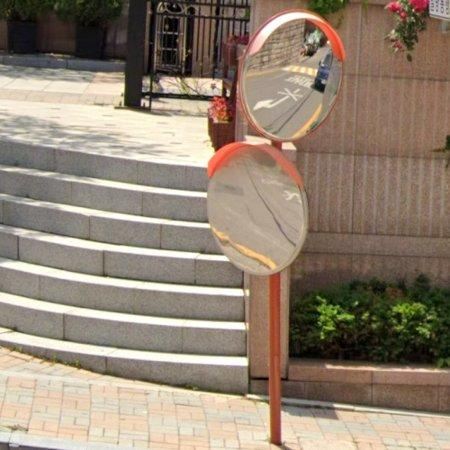stairs: (0, 139, 249, 393)
